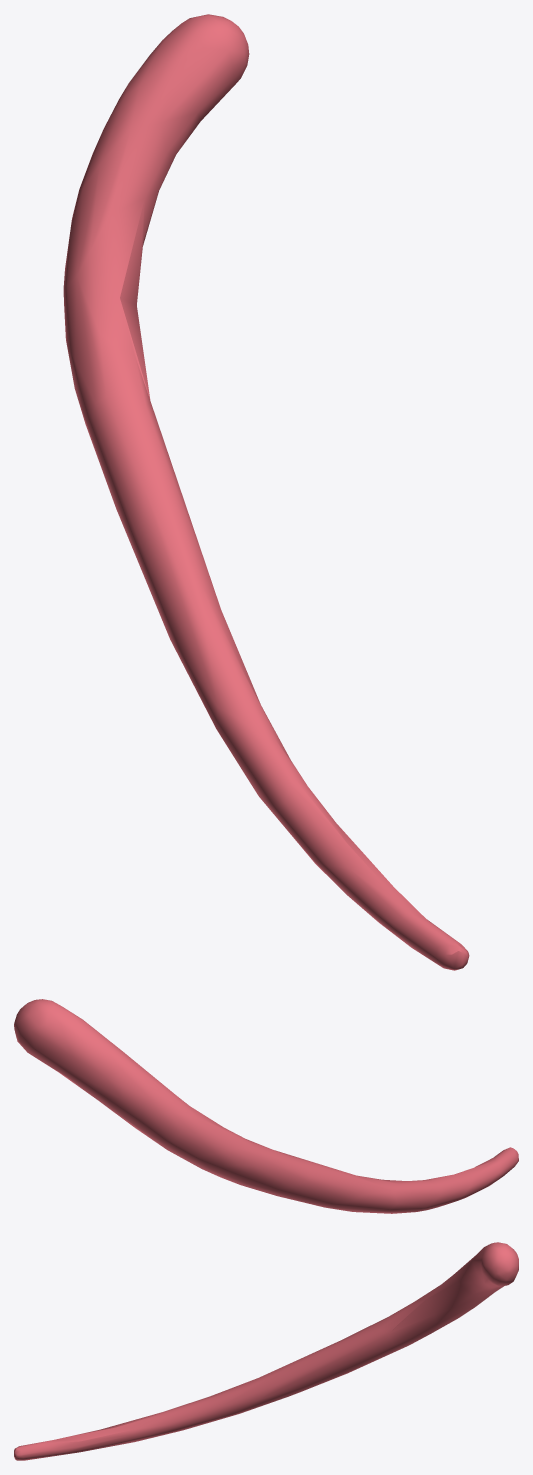
Rendered from fma8665_fj6099.glb.
3 views of the same model, one above another, from view 1: azimuth 30°, elevation 25°; view 2: azimuth 150°, elevation 25°; view 3: azimuth 270°, elevation 25° (orthographic). The views are drawn at different scales.
Visible parts, largest first — view 1: FMA8665_FJ6099; view 2: FMA8665_FJ6099; view 3: FMA8665_FJ6099.
Part boxes in pixels (bbox=[...]): FMA8665_FJ6099: bbox=[63, 14, 469, 970]; FMA8665_FJ6099: bbox=[14, 999, 518, 1213]; FMA8665_FJ6099: bbox=[14, 1242, 518, 1460].
Size of the model in its own units: 0.0268 by 0.0453 by 0.0761.
